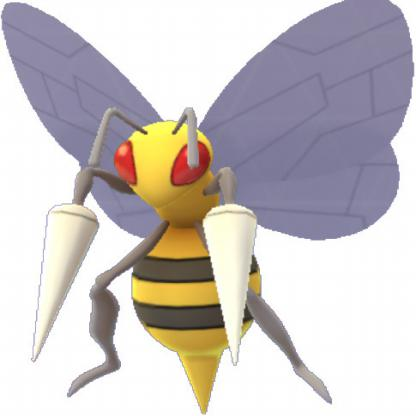Beedrill: (8, 6, 409, 409)
